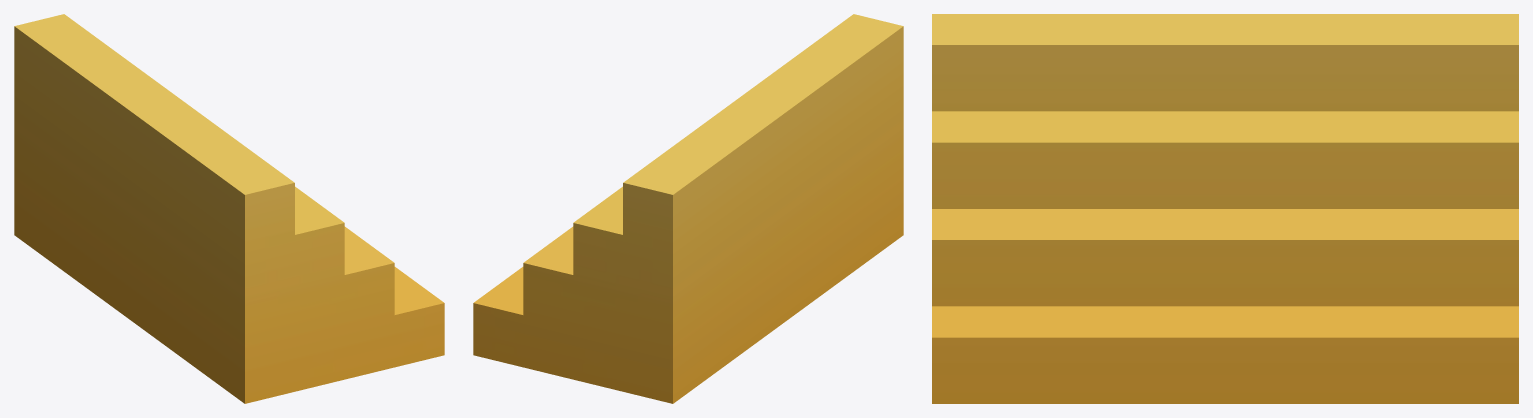
The model's file is kaykit-prototype-bits-primitive-stairs-half.glb.
The picture shows the model from 3 angles, left to right: view 1: azimuth 30°, elevation 25°; view 2: azimuth 150°, elevation 25°; view 3: azimuth 270°, elevation 25°; orthographic projection. The views are drawn at different scales.
Parts seen in each view (by area): view 1: Primitive_Stairs_Half; view 2: Primitive_Stairs_Half; view 3: Primitive_Stairs_Half.
Part boxes in pixels (x1,y1,x2,y2): Primitive_Stairs_Half: [14, 14, 444, 403]; Primitive_Stairs_Half: [473, 14, 903, 403]; Primitive_Stairs_Half: [932, 14, 1518, 403].
Size of the model in its own units: 2 by 2 by 4.
1 material, 1 textured.
